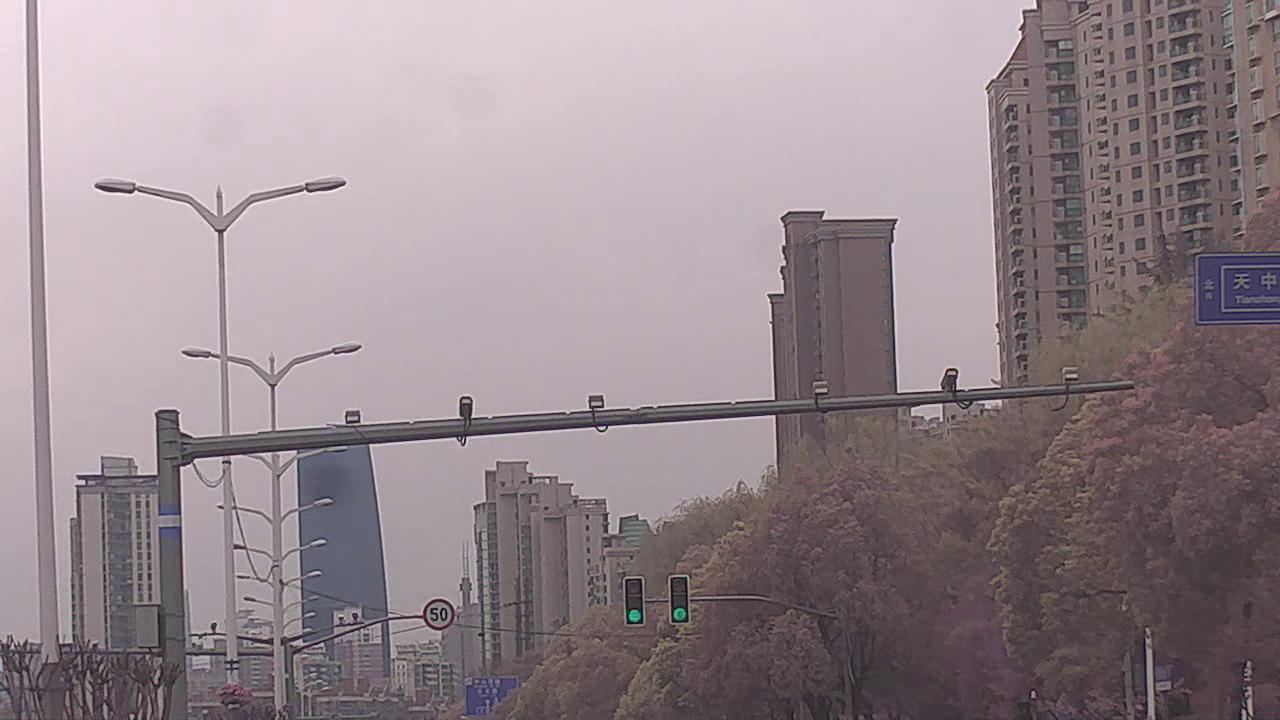traffic_light: (669, 574, 691, 624), (625, 577, 646, 626)
